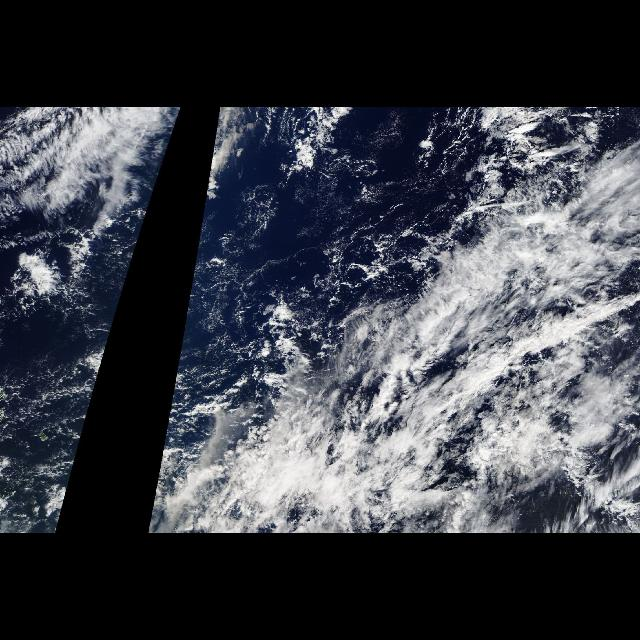Gravel: (190, 134, 480, 408)
